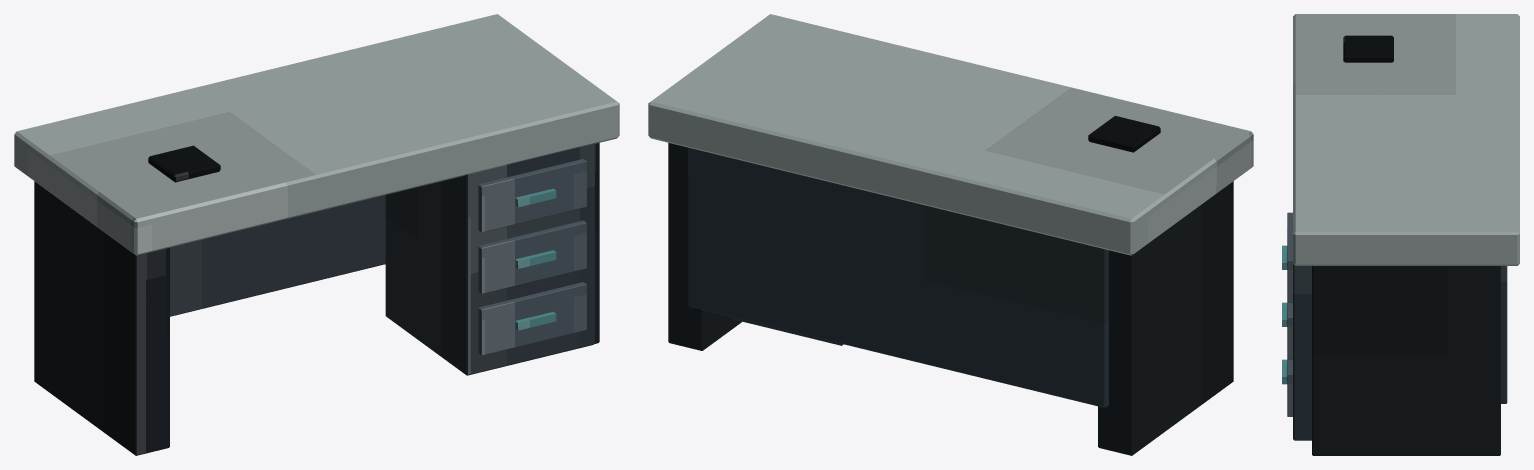
File: office_desk_charcoal.glb
The picture shows the model from 3 angles, left to right: view 1: azimuth 30°, elevation 25°; view 2: azimuth 150°, elevation 25°; view 3: azimuth 270°, elevation 25°; orthographic projection. The views are drawn at different scales.
Visible parts, largest first — view 1: DeskTop, DeskLeg, DrawerPedestal, ModestyPanel, Drawer_2, Drawer_1, Drawer_0, CableGrommet, DeskLeg.001; view 2: DeskTop, ModestyPanel, DeskLeg, DeskLeg.001, CableGrommet; view 3: DeskTop, DeskLeg.001, DrawerPedestal, CableGrommet, ModestyPanel, Drawer_2, Drawer_0, Drawer_1.
Boxes of the visible parts, x1,y1,x2,y2 form: DeskTop: (14,14,619,255); DeskLeg: (34,181,169,455); DrawerPedestal: (385,143,594,375); ModestyPanel: (170,195,385,316); Drawer_2: (478,159,586,232); Drawer_1: (478,220,586,293); Drawer_0: (478,282,586,355); CableGrommet: (148,145,220,182); DeskLeg.001: (594,143,599,343); DeskTop: (648,14,1253,255); ModestyPanel: (688,147,1108,407); DeskLeg: (1098,181,1233,455); DeskLeg.001: (668,143,741,350); CableGrommet: (1088,116,1160,152); DeskTop: (1293,14,1519,265); DeskLeg.001: (1312,266,1500,455); DrawerPedestal: (1293,264,1311,440); CableGrommet: (1343,35,1393,62); ModestyPanel: (1501,266,1507,403); Drawer_2: (1287,212,1292,302); Drawer_0: (1287,360,1292,416); Drawer_1: (1287,303,1292,359).
Size of the model in its own units: 1.65 by 0.8275 by 0.755.
Materials: 1 (1 with a texture image).
